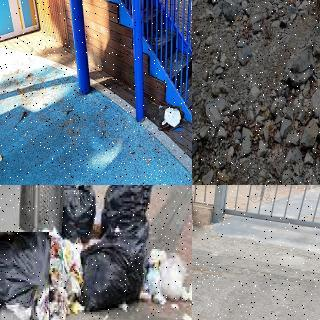Garbage: (82, 224, 143, 308), (0, 230, 50, 320), (101, 185, 154, 247), (61, 185, 95, 237), (159, 106, 182, 131)
